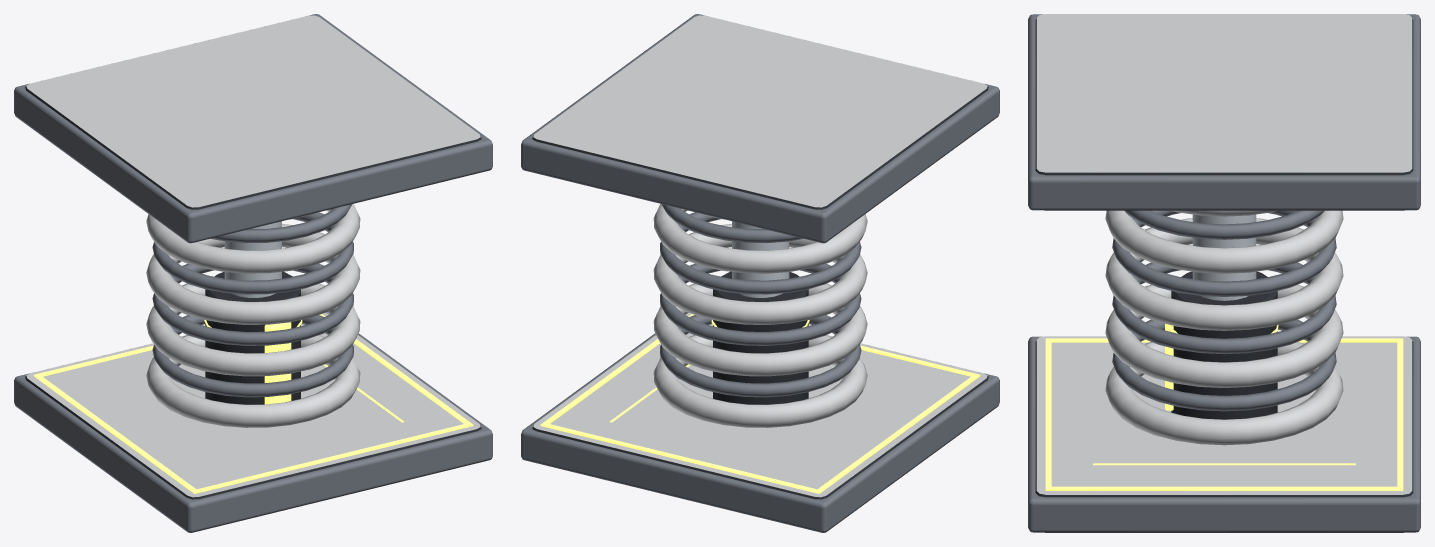
The model's file is R4X_Suspension.fbx.
3 views of the same model, side by side, from view 1: azimuth 30°, elevation 25°; view 2: azimuth 150°, elevation 25°; view 3: azimuth 270°, elevation 25° (orthographic). The views are drawn at different scales.
Parts seen in each view (by area): view 1: R4X_Suspension_Body, R4X_Suspension_Piston; view 2: R4X_Suspension_Body, R4X_Suspension_Piston; view 3: R4X_Suspension_Body, R4X_Suspension_Piston.
Boxes of the visible parts, left/top/right/bottom form: R4X_Suspension_Body: left=14, top=14, right=492, bottom=532; R4X_Suspension_Piston: left=224, top=221, right=281, bottom=297; R4X_Suspension_Body: left=521, top=14, right=999, bottom=532; R4X_Suspension_Piston: left=732, top=221, right=789, bottom=297; R4X_Suspension_Body: left=1028, top=14, right=1420, bottom=532; R4X_Suspension_Piston: left=1192, top=214, right=1256, bottom=300.
Size of the model in its own units: 0.514 by 0.52 by 0.514.
